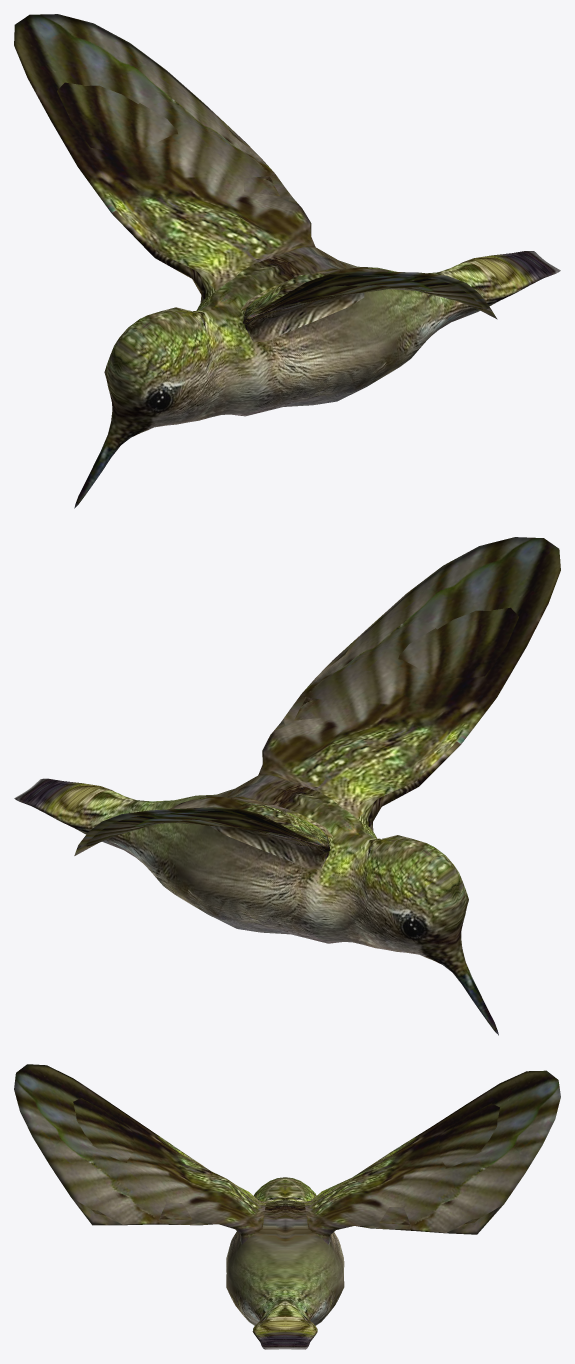
File: BeeBird.obj
3 views of the same model, one above another, from view 1: azimuth 30°, elevation 25°; view 2: azimuth 150°, elevation 25°; view 3: azimuth 270°, elevation 25° (orthographic). The views are drawn at different scales.
Visible parts, largest first — view 1: shenti; view 2: shenti; view 3: shenti.
Boxes of the visible parts, x1,y1,x2,y2 form: shenti: (14,14,560,508); shenti: (14,537,560,1035); shenti: (14,1064,560,1349).
Size of the model in its own units: 14.35 by 9.73 by 19.11.
Materials: 2 (1 with a texture image).
